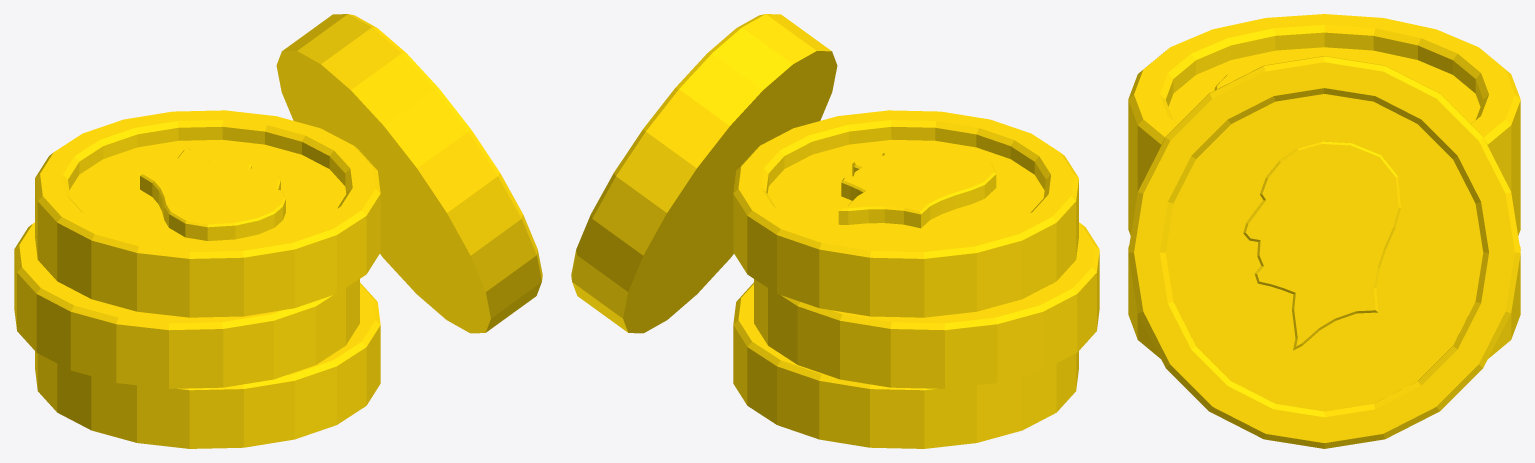
Rendered from gold.fbx.
The picture shows the model from 3 angles, left to right: view 1: azimuth 30°, elevation 25°; view 2: azimuth 150°, elevation 25°; view 3: azimuth 270°, elevation 25°; orthographic projection. The views are drawn at different scales.
Visible parts, largest first — view 1: Cylinder; view 2: Cylinder; view 3: Cylinder.
Boxes of the visible parts, x1,y1,x2,y2 form: Cylinder: [14, 14, 542, 448]; Cylinder: [571, 14, 1099, 448]; Cylinder: [1128, 14, 1520, 448].
Size of the model in its own units: 308 by 197 by 200.
